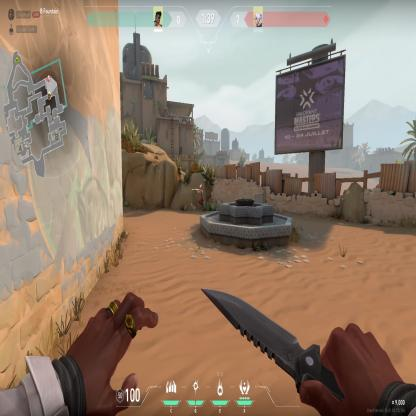enemy: (196, 182, 208, 213)
